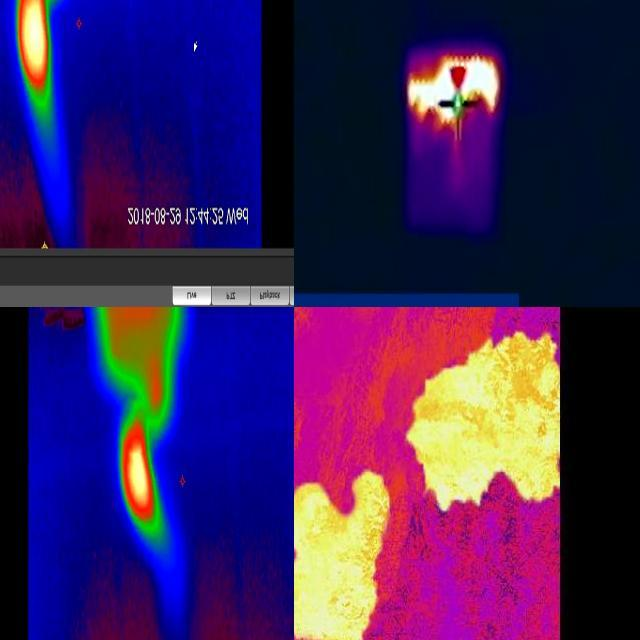fire: (406, 328, 562, 522), (295, 468, 394, 640), (407, 50, 500, 140), (119, 408, 165, 544), (16, 1, 54, 115)
